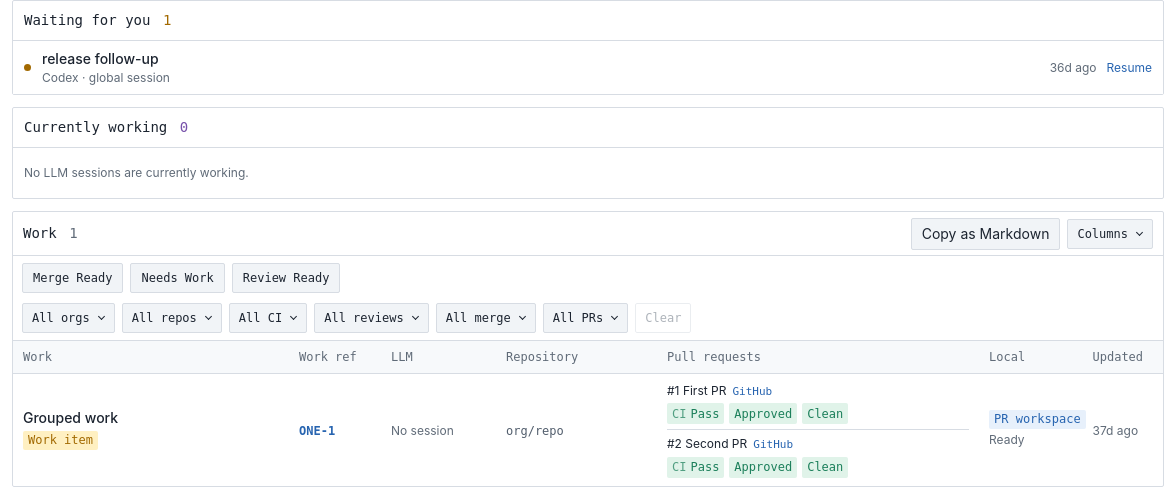
shows waiting sessions as a list and acknowledges a global session when opened
Click the button "release follow-up Codex · global session 36d ago Resume".
click(100, 58)  # box x1=13 y1=41 x2=1163 y2=94
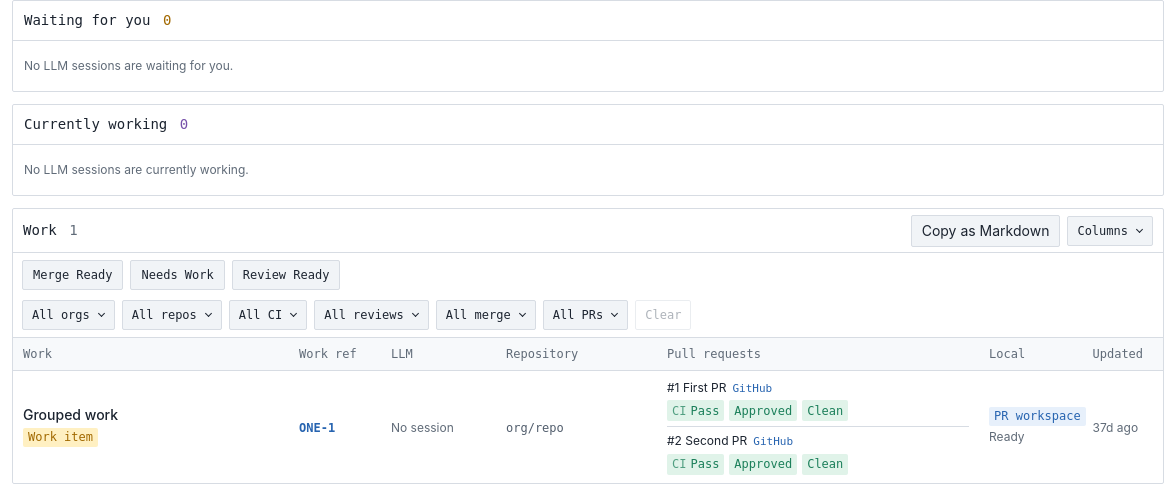
Now the button "release follow-up" is gone
